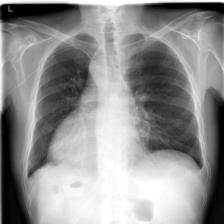normal: (22, 30, 210, 183)
